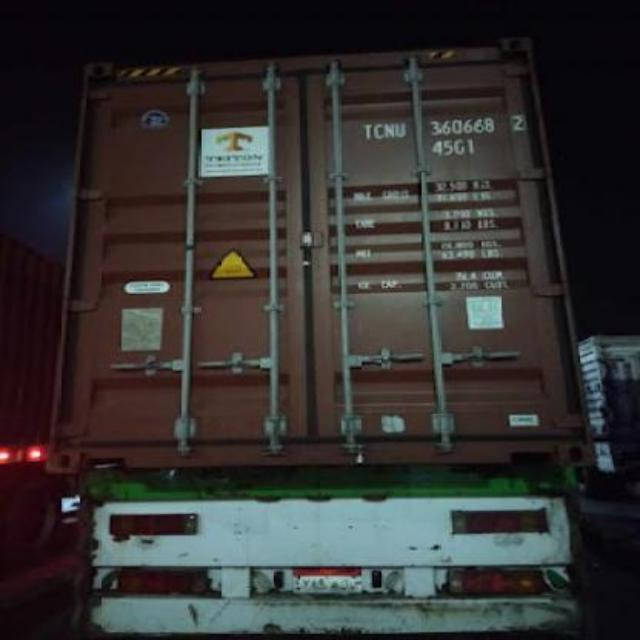0: (450, 114, 462, 136)
2: (512, 112, 530, 134)
3: (426, 115, 439, 136)
6: (461, 112, 474, 136), (472, 113, 484, 137), (440, 113, 450, 137)
8: (484, 112, 496, 140)
C: (372, 118, 386, 142)
N: (384, 118, 396, 144)
T: (358, 120, 374, 142)
U: (394, 115, 408, 141)
